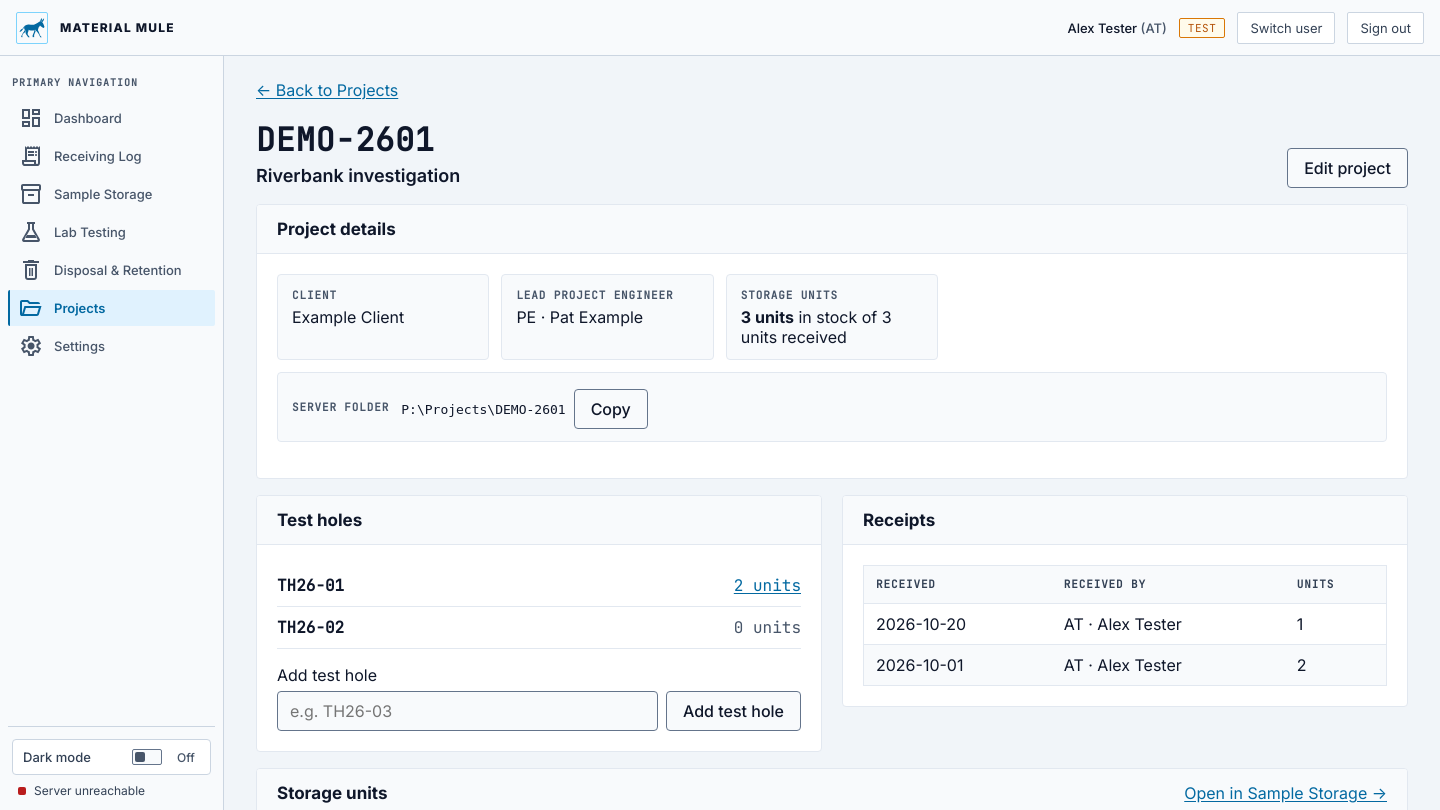
Test case: Project detail (MM-T35) › edit: locked number, a required reason when changing the Lead Project Engineer, and field errors
Click the button "Edit project": {"x": 1348, "y": 168} [1287,148,1408,188]
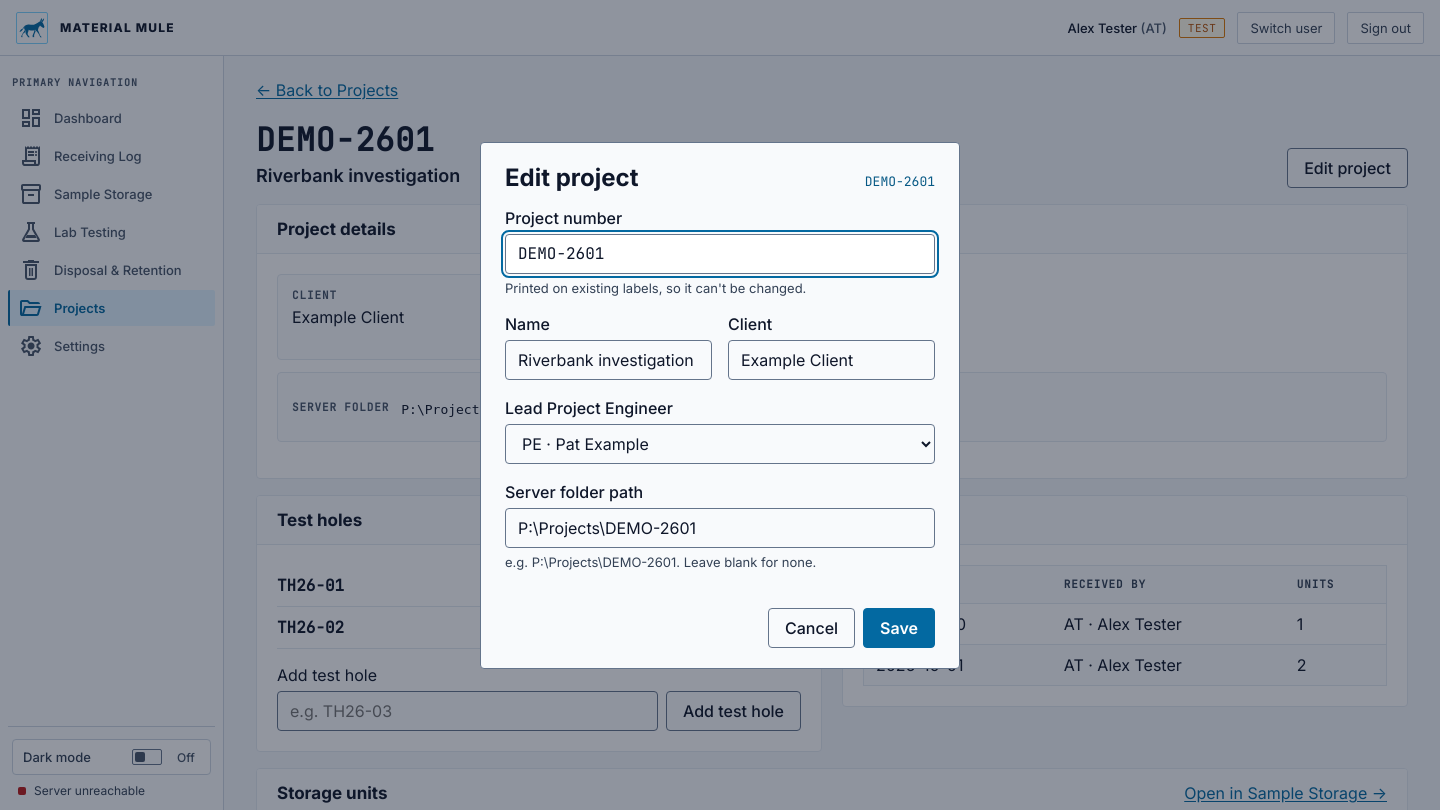
Check: the dialog "Edit project" shows "Printed on existing labels, so it can't be changed.", box [505,280,806,296]
Note: Changing the Lead Project Engineer needs a reason before anything is sent.
Select "DE · Dana Example" in the dropdown labelled "Lead Project Engineer": {"x": 720, "y": 444} [505,424,935,464]
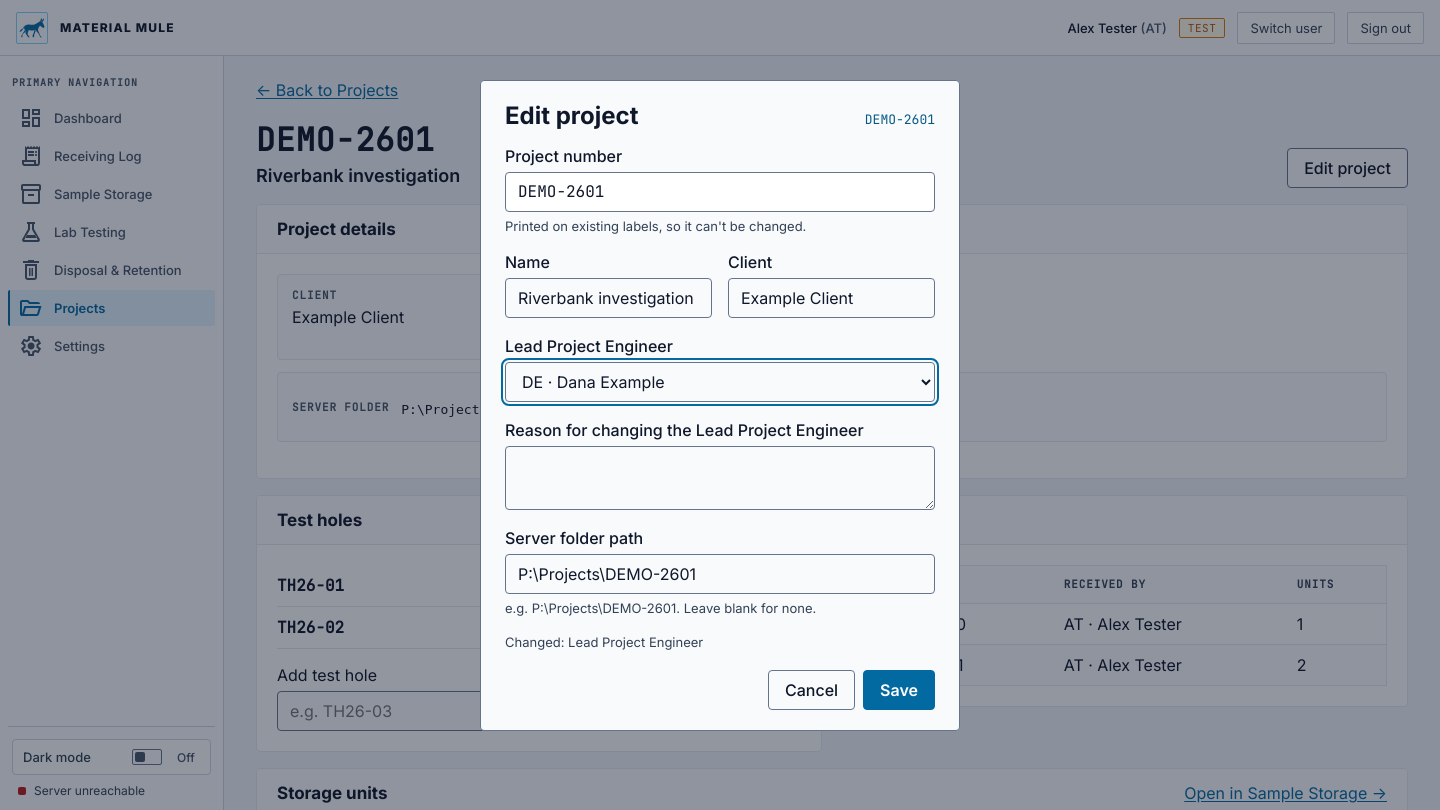
Replace the text in the field labelled "Server folder path" with "bad": {"x": 720, "y": 574} [505,554,935,594]
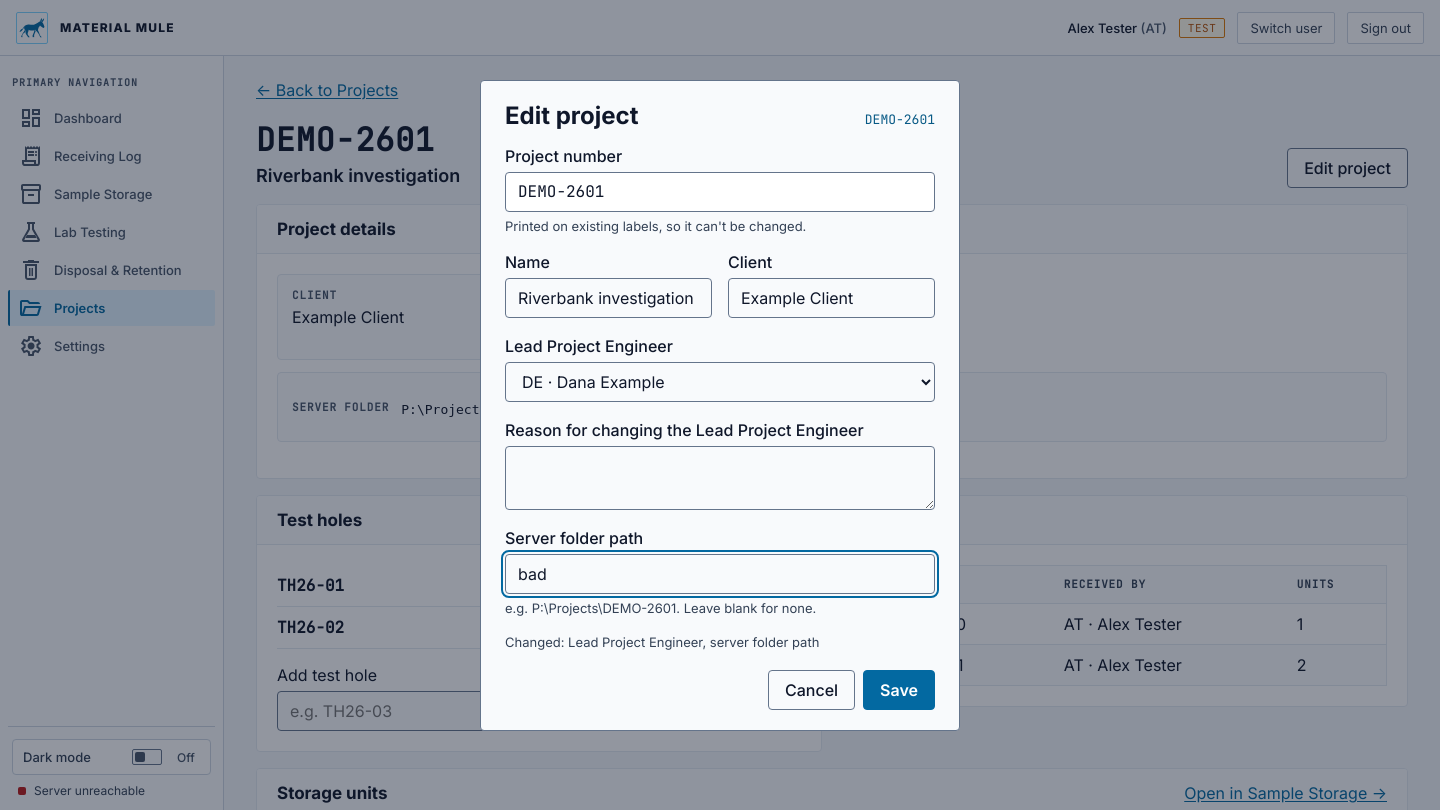
Click the button "Save": {"x": 899, "y": 690} [863,670,935,710]
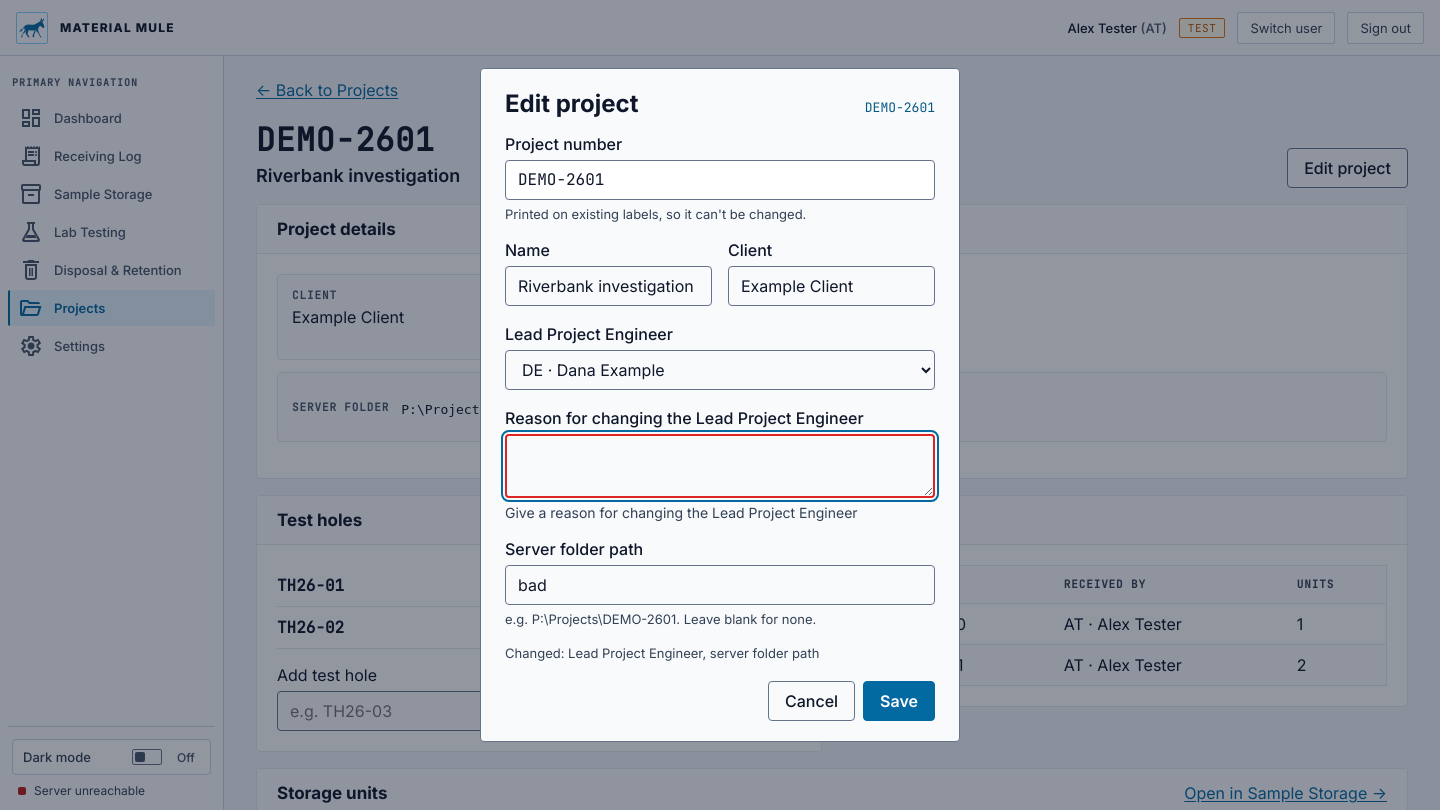
In the text box labelled "Reason for changing the Lead Project Engineer": {"x": 720, "y": 466} [505,434,935,498], type "Handover"
Click the button "Save": {"x": 899, "y": 701} [863,681,935,721]
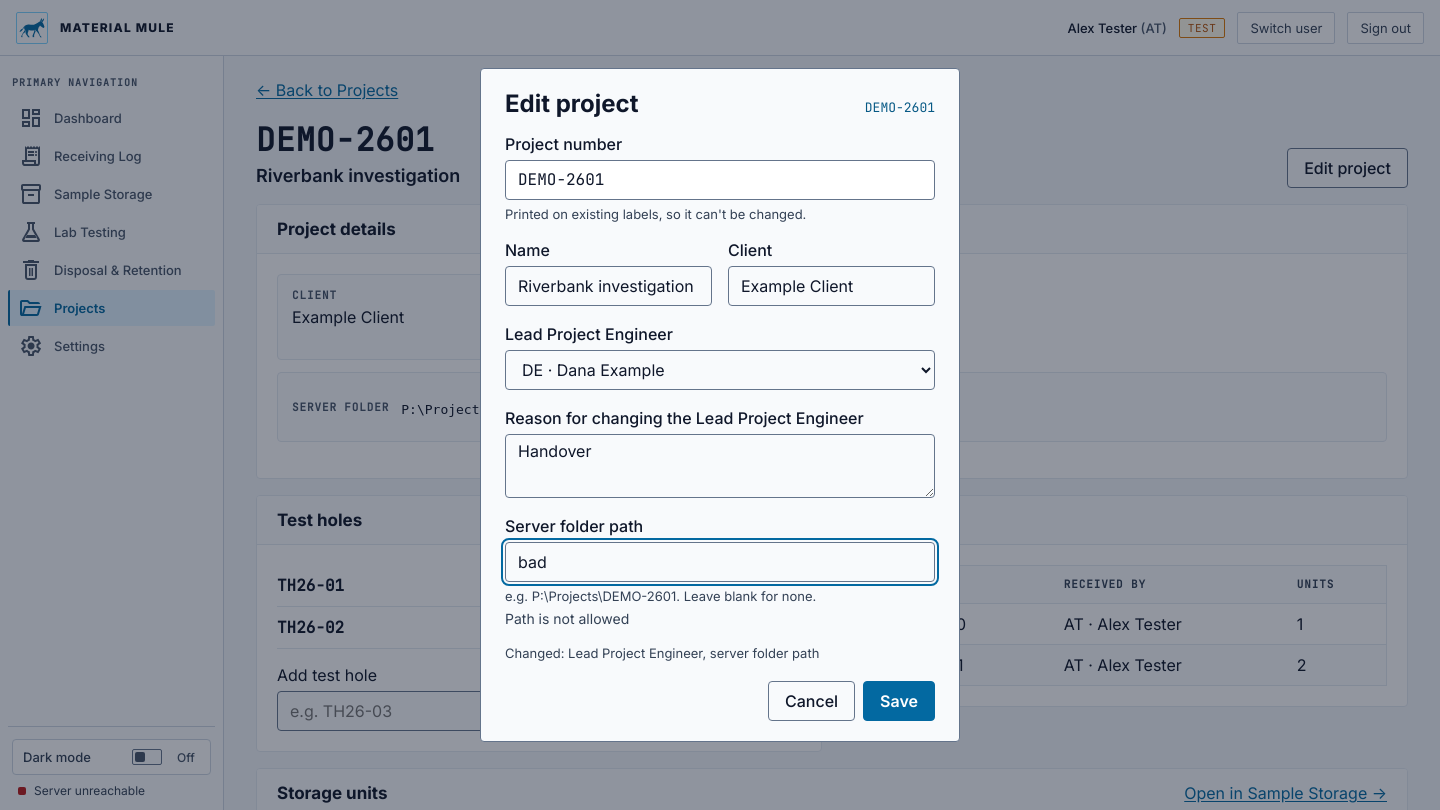
Check: the text "Path is not allowed" is shown, box [505,610,629,627]
Clear the field labelled "Server folder path": {"x": 720, "y": 562} [505,542,935,582]
Click the button "Save": {"x": 899, "y": 701} [863,681,935,721]
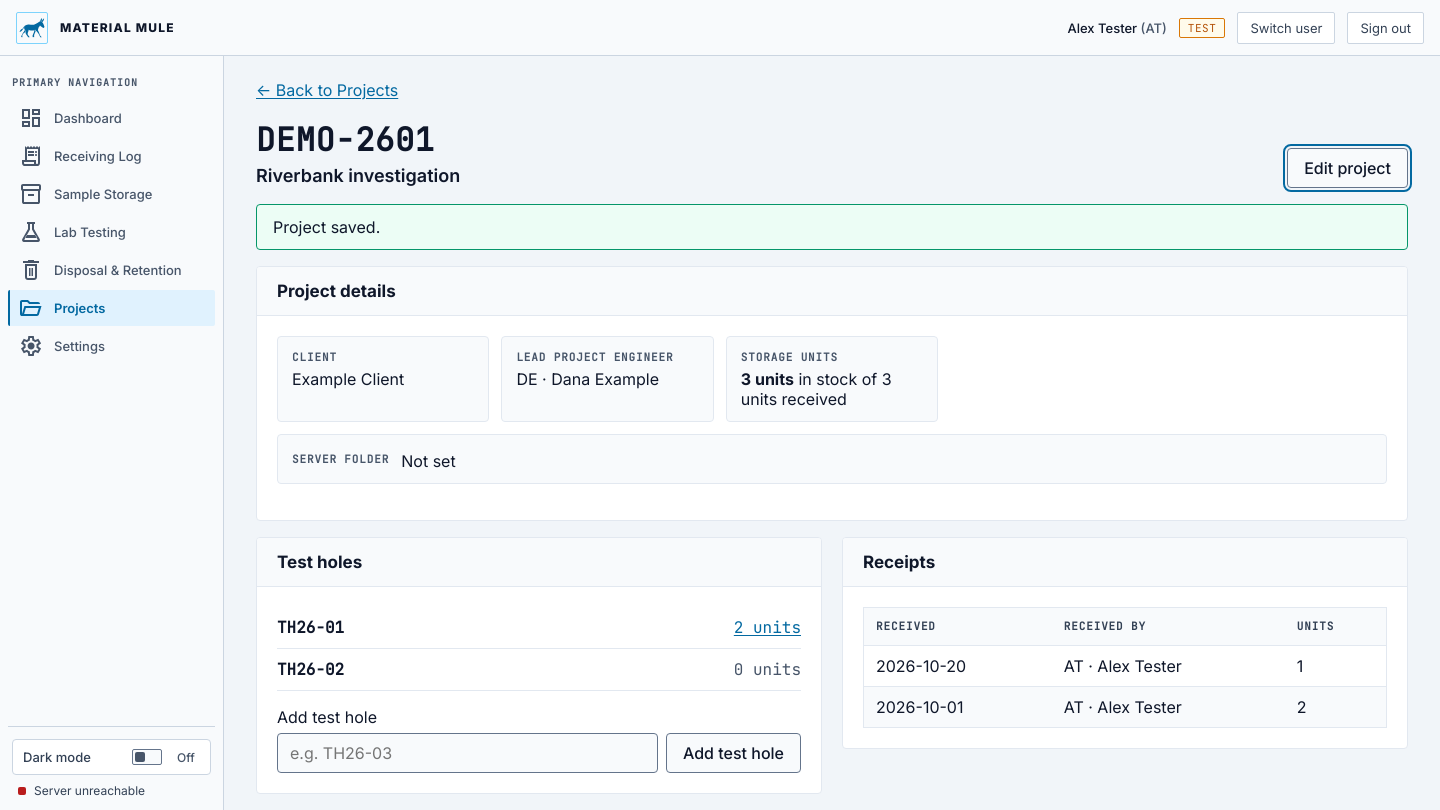
Check: the text "Project saved." is shown, box [256,204,1408,250]
Check: the element "Project details" shows "DE · Dana Example", box [516,369,659,389]
